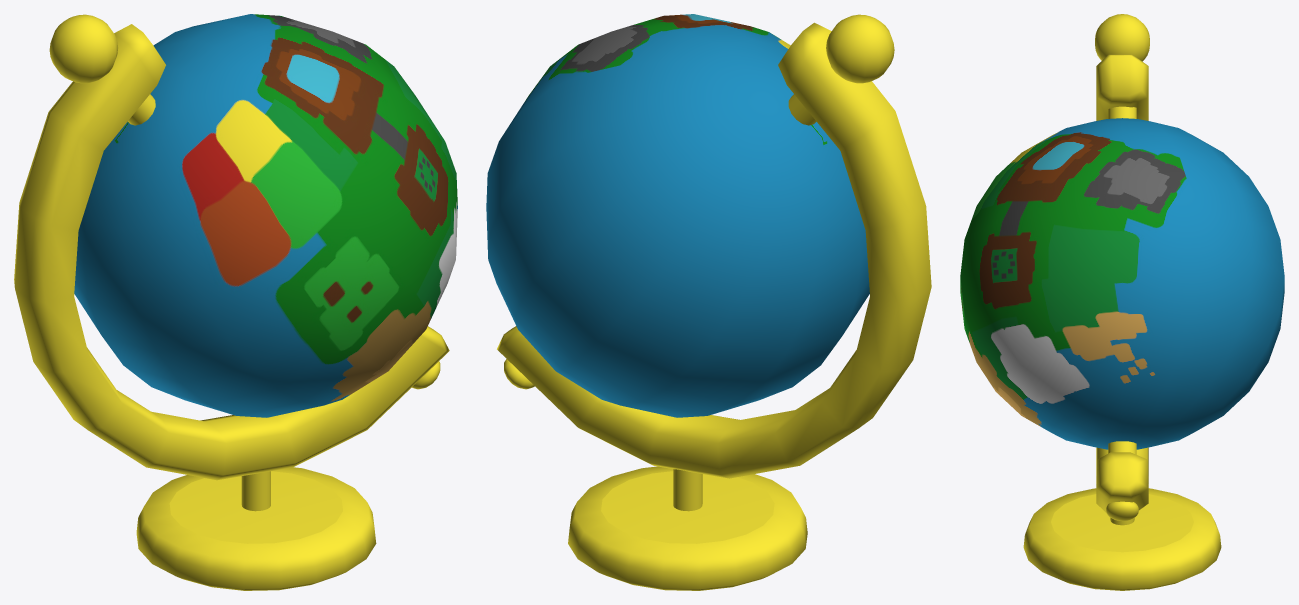
File: Globe.fbx
3 renders of one model, left to right at view 1: azimuth 30°, elevation 25°; view 2: azimuth 150°, elevation 25°; view 3: azimuth 270°, elevation 25°, orthographic. The views are drawn at different scales.
Visible parts, largest first — view 1: Globe3, Globe2; view 2: Globe3, Globe2; view 3: Globe3, Globe2.
Boxes of the visible parts, x1,y1,x2,y2 form: Globe3: (74,14,457,417); Globe2: (14,14,449,590); Globe3: (486,14,869,417); Globe2: (497,14,931,590); Globe3: (960,118,1284,449); Globe2: (1023,14,1221,590).
Size of the model in its own units: 6.71 by 8.68 by 5.45.
